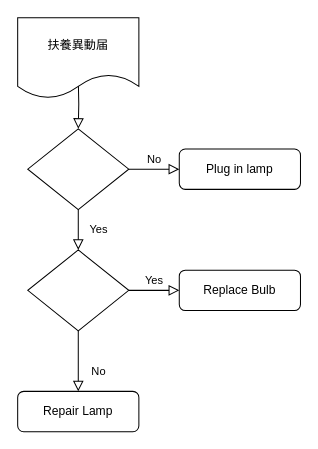
Image size: 318x449. Some labels were removed from this diagram. Here are the shapes that lost their labels. From the top down, the box of each, then its label:
(27, 128, 129, 210): 開始？
(27, 249, 129, 331): 配偶者？
